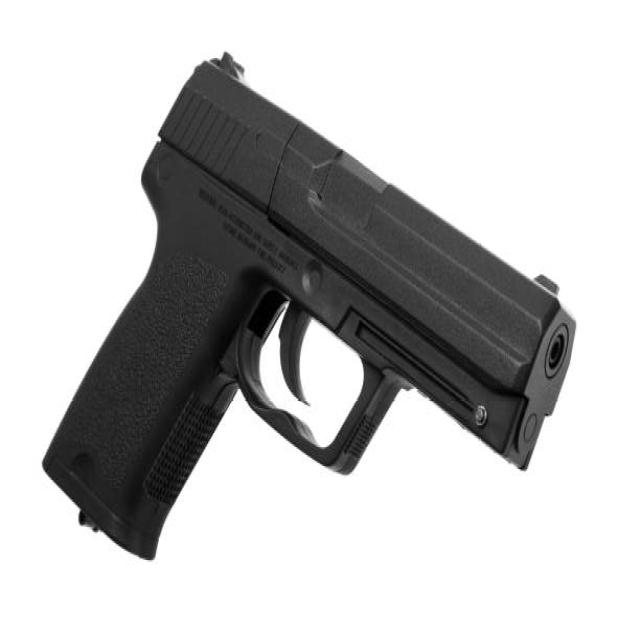pistol: (36, 47, 580, 567)
